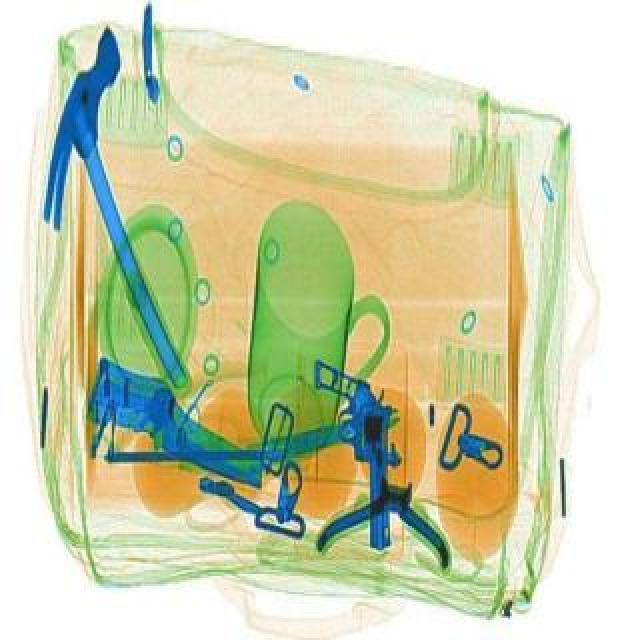gun: (314, 354, 396, 546)
